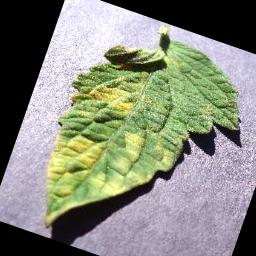Leaf_Mold: (26, 106, 179, 256), (85, 67, 144, 118)
